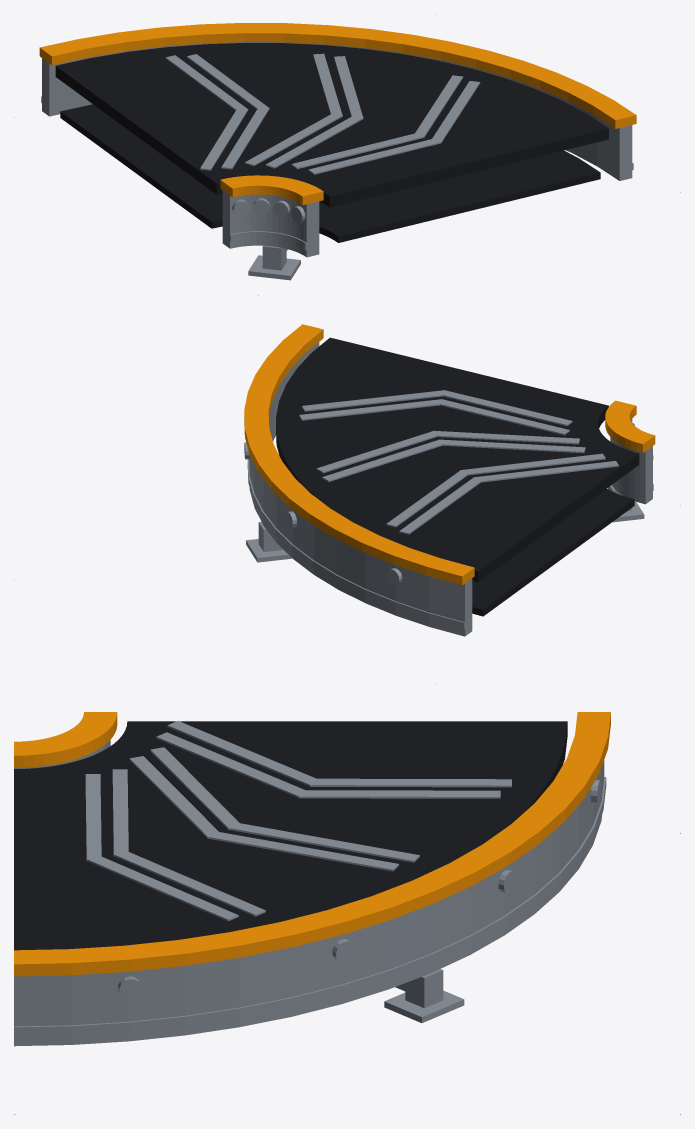
File: convoyeur_virage_t2.glb
3 views of the same model, one above another, from view 1: azimuth 30°, elevation 25°; view 2: azimuth 150°, elevation 25°; view 3: azimuth 270°, elevation 25° (orthographic). The views are drawn at different scales.
Visible parts, largest first — view 1: bande_porteuse.024, bande_retour.024, rive_1.024, bande_acier.042, longeron_1.024, longeron_-1.024, pieces_acier.048, rive_-1.024, nervure_-1.012; view 2: bande_porteuse.024, bande_acier.042, longeron_1.024, rive_1.024, bande_retour.024, nervure_1.012, pieces_acier.048, rive_-1.024, longeron_-1.024; view 3: bande_porteuse.024, longeron_1.024, rive_1.024, bande_acier.042, nervure_1.012, pieces_acier.048, rive_-1.024.
Boxes of the visible parts, x1,y1,x2,y2 form: bande_porteuse.024: (55, 43, 608, 207); bande_retour.024: (60, 104, 600, 242); rive_1.024: (39, 23, 636, 128); bande_acier.042: (165, 53, 480, 174); longeron_1.024: (42, 42, 632, 180); longeron_-1.024: (222, 190, 319, 257); pieces_acier.048: (232, 198, 305, 280); rive_-1.024: (220, 175, 323, 205); nervure_-1.012: (230, 231, 307, 249); bande_porteuse.024: (276, 337, 639, 582); bande_acier.042: (299, 390, 618, 534); longeron_1.024: (249, 342, 472, 636); rive_1.024: (244, 324, 474, 585); bande_retour.024: (472, 488, 634, 616); nervure_1.012: (247, 459, 465, 629); pieces_acier.048: (244, 423, 653, 585); rive_-1.024: (605, 400, 655, 452); longeron_-1.024: (610, 419, 652, 504); bande_porteuse.024: (14, 721, 567, 950); longeron_1.024: (14, 760, 604, 1046); rive_1.024: (14, 712, 610, 976); bande_acier.042: (85, 721, 511, 921); nervure_1.012: (14, 777, 606, 1036); pieces_acier.048: (118, 779, 601, 1022); rive_-1.024: (14, 712, 117, 767).
Size of the model in its own units: 1 by 0.2 by 1.
